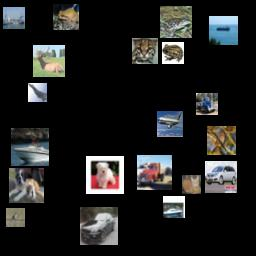airplane: (157, 111, 183, 137), (28, 83, 47, 102)
automobile: (80, 207, 118, 245), (205, 161, 237, 193)
bird: (207, 126, 236, 155), (6, 208, 25, 227)
cat: (132, 38, 158, 64), (182, 175, 201, 194)
deer: (33, 45, 65, 77)
dog: (86, 156, 124, 194), (9, 168, 44, 203)
frog: (160, 6, 192, 38), (53, 4, 79, 30), (162, 42, 184, 64)
ship: (11, 128, 49, 166), (209, 16, 238, 45), (163, 196, 185, 218), (3, 7, 25, 29)
truck: (137, 155, 172, 190), (196, 93, 218, 115)
